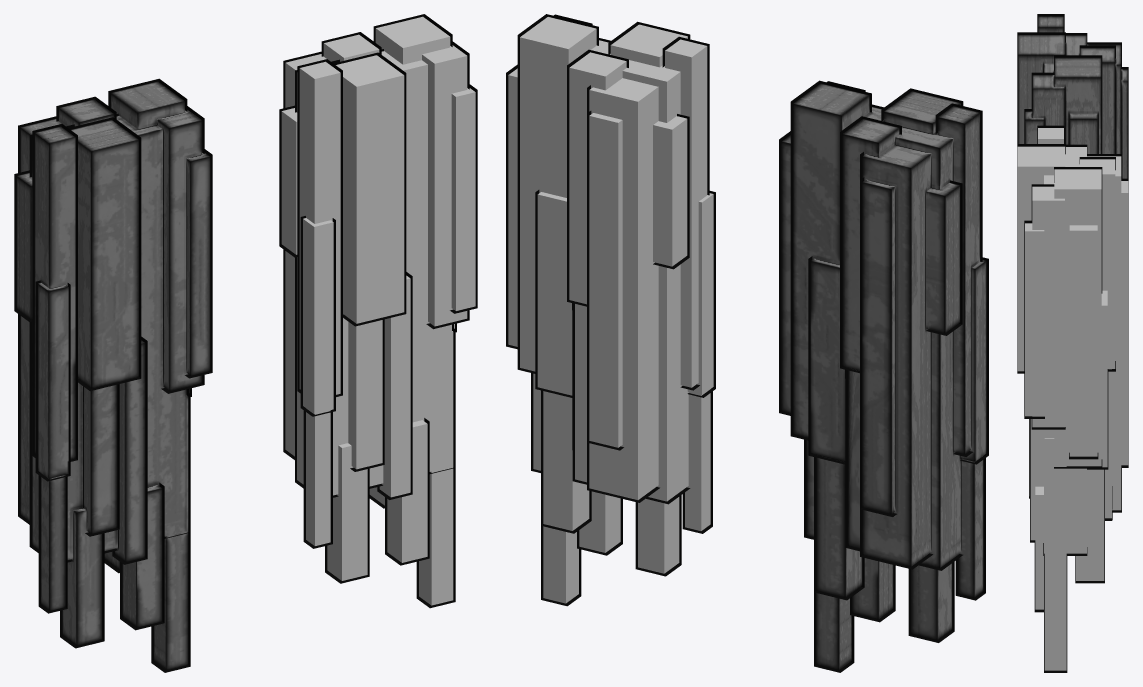
The model's file is Export_platform_cartoon_test.fbx.
3 renders of one model, left to right at view 1: azimuth 30°, elevation 25°; view 2: azimuth 150°, elevation 25°; view 3: azimuth 270°, elevation 25°, orthographic. The views are drawn at different scales.
Visible parts, largest first — view 1: Box_cartoon, Box_cartoon002, Box_Outline2, Box_Outline005; view 2: Box_cartoon002, Box_cartoon, Box_Outline2, Box_Outline005; view 3: Box_cartoon002, Box_cartoon, Box_Outline005, Box_Outline2.
Boxes of the visible parts, box(x1,y1,x2,y2) form: Box_cartoon: box(16, 81, 210, 670); Box_cartoon002: box(281, 16, 475, 605); Box_Outline2: box(14, 78, 212, 672); Box_Outline005: box(279, 14, 477, 608); Box_cartoon002: box(508, 17, 713, 603); Box_cartoon: box(781, 83, 986, 669); Box_Outline2: box(779, 80, 988, 672); Box_Outline005: box(506, 14, 715, 606); Box_cartoon002: box(1017, 128, 1128, 670); Box_cartoon: box(1017, 16, 1128, 178); Box_Outline005: box(1017, 125, 1128, 672); Box_Outline2: box(1017, 14, 1128, 178).
Size of the model in its own units: 66.34 by 82.82 by 17.25.
